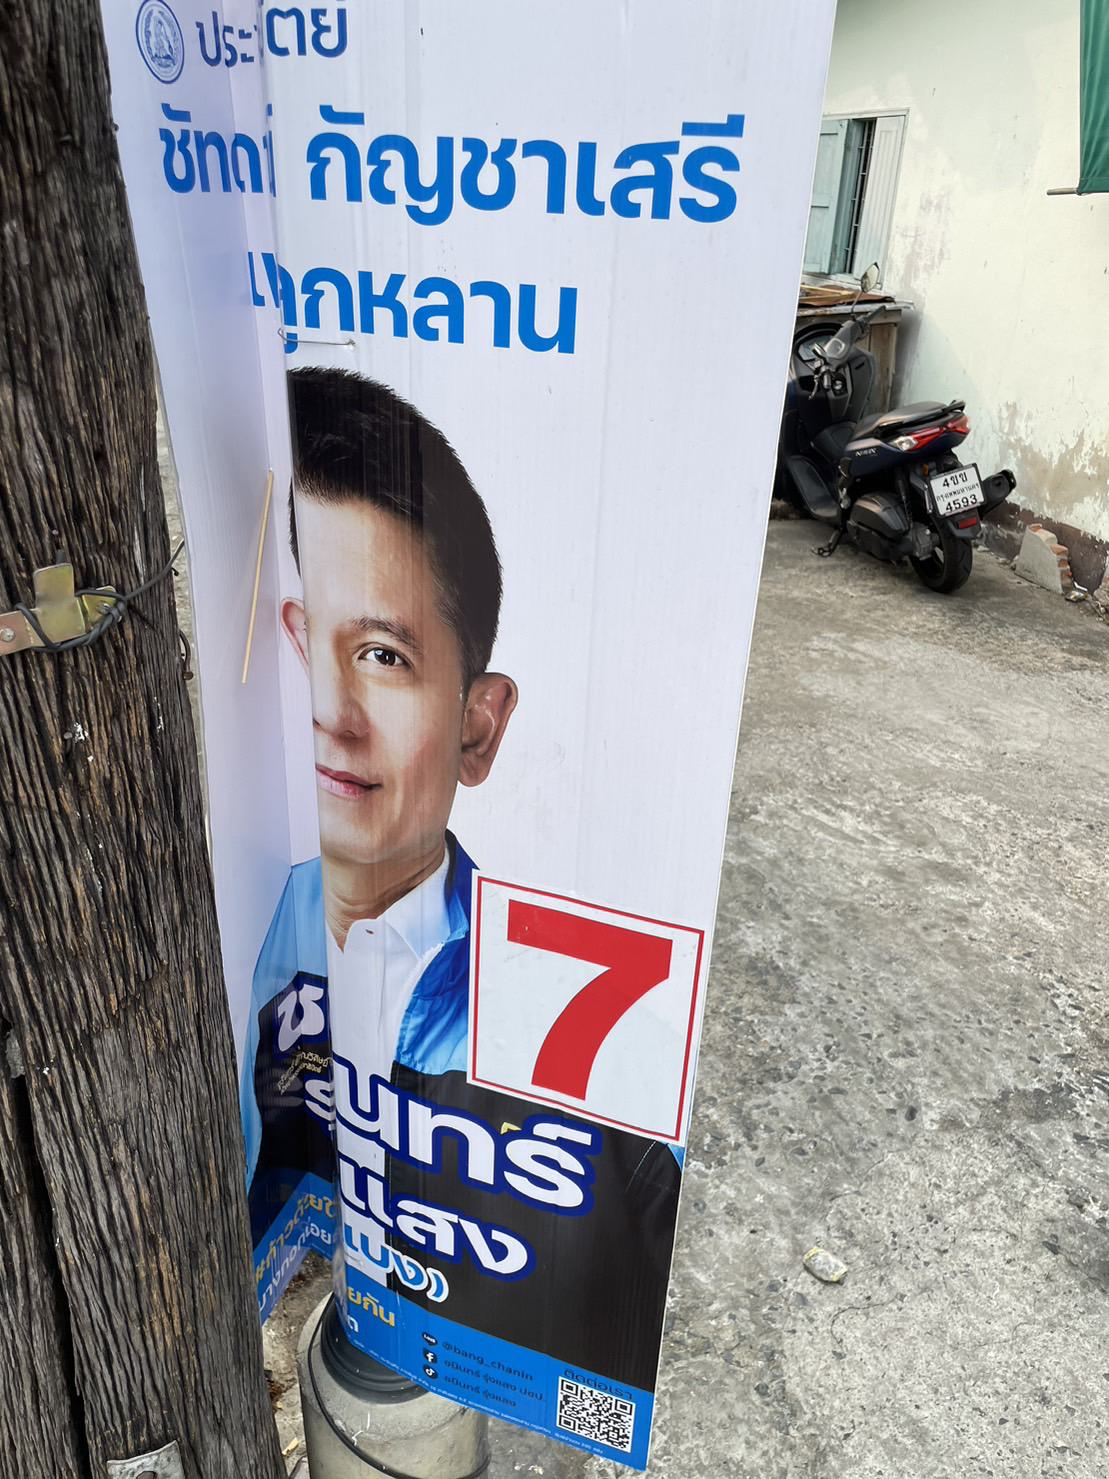Banner: (96, 2, 835, 1472)
